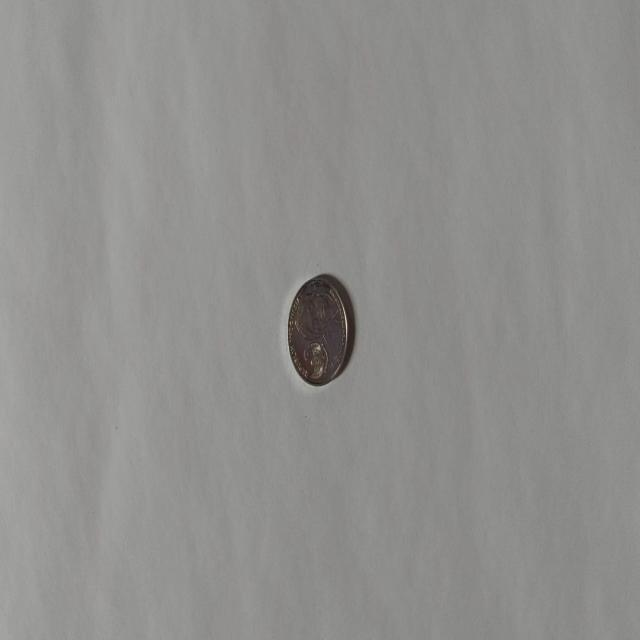dua ratus rupiah: (286, 273, 349, 387)
